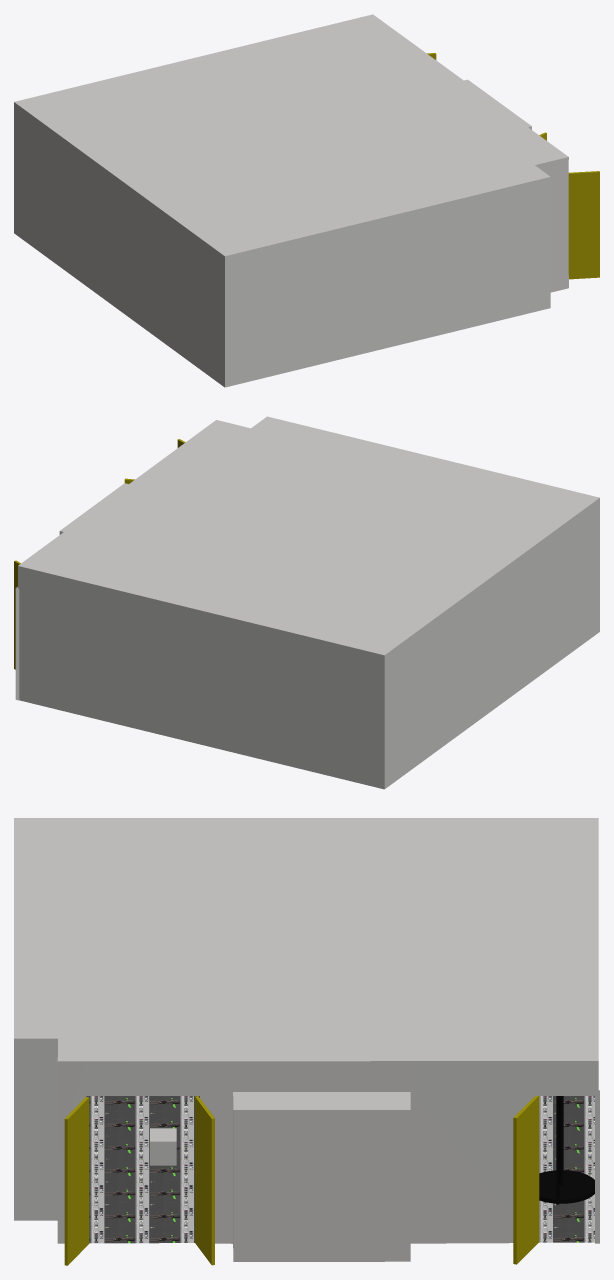
File: DemoRoom.glb
The picture shows the model from 3 angles, top to bottom: view 1: azimuth 30°, elevation 25°; view 2: azimuth 150°, elevation 25°; view 3: azimuth 270°, elevation 25°; orthographic projection. The views are drawn at different scales.
Parts seen in each view (by area): view 1: Room, Doors; view 2: Room; view 3: Room, Floor, Doors, Stanchions, Projector.
Boxes of the visible parts, x1,y1,x2,y2 form: Room: [14, 14, 568, 387]; Doors: [427, 53, 599, 279]; Room: [15, 416, 599, 789]; Room: [14, 818, 599, 1261]; Floor: [86, 1096, 594, 1243]; Doors: [64, 1096, 539, 1265]; Stanchions: [539, 1096, 594, 1204]; Projector: [150, 1128, 176, 1165].
Size of the model in its own units: 10.89 by 3.48 by 10.12.
Materials: 5 (1 with a texture image).
